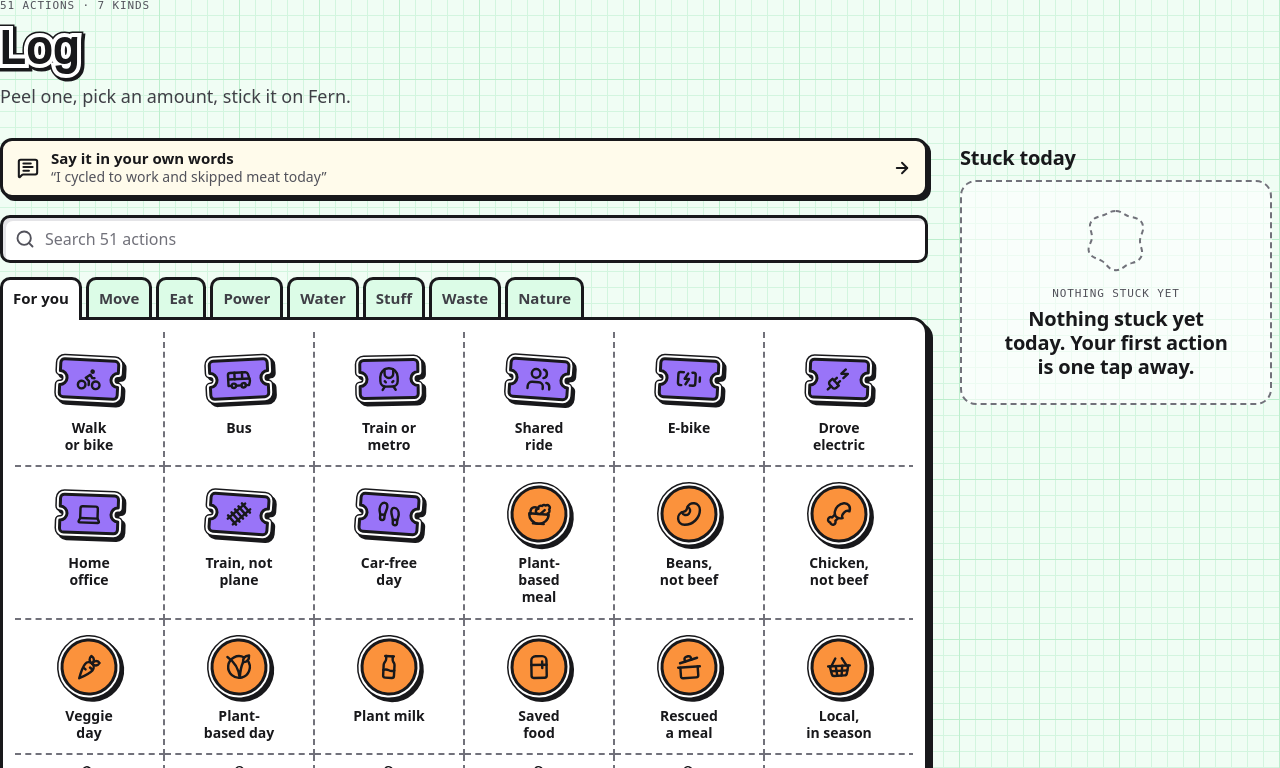
Test: browsing › finds an action by a synonym and offers a custom action when nothing matches
In the search field named "Search actions": coordinates (480, 239) [35, 218, 925, 260], type "subway"
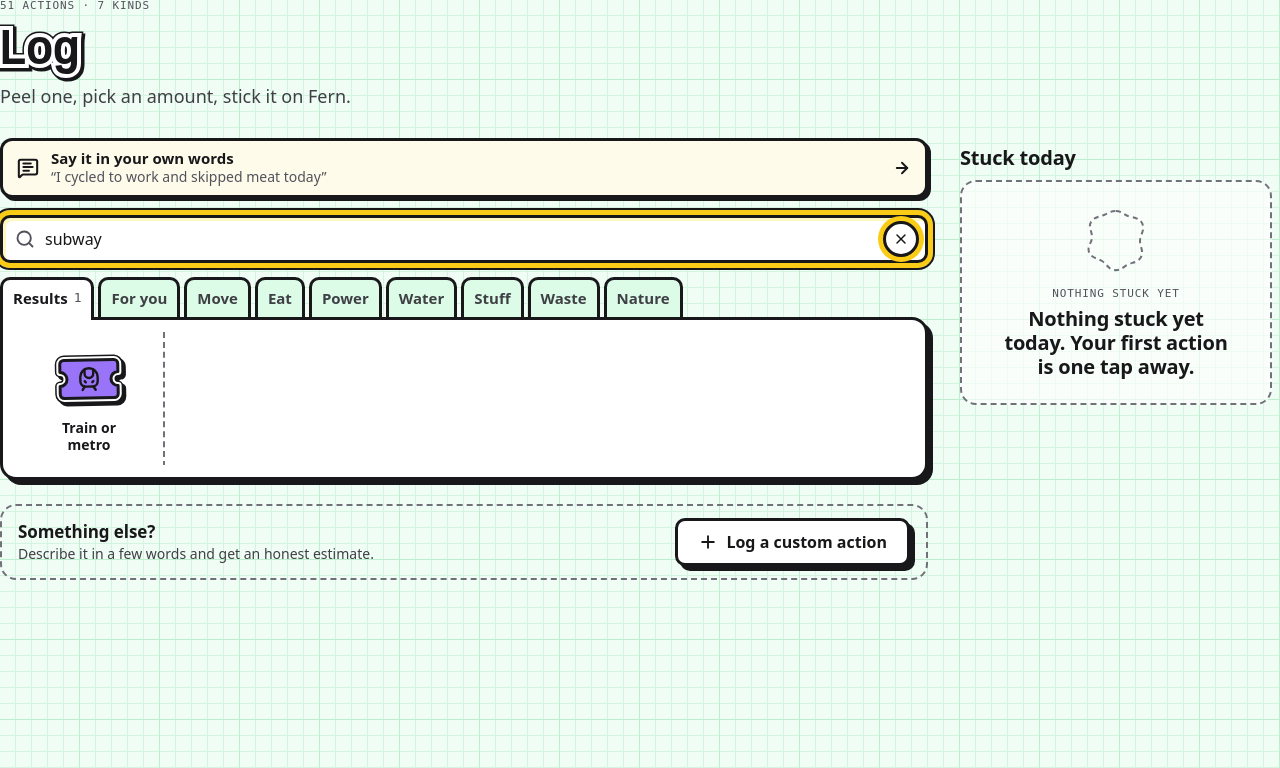
Expected: the button with aria-label "Train or metro:" is shown, [52, 346, 126, 454]
Clear the search field named "Search actions": coordinates (459, 239) [35, 218, 883, 260]
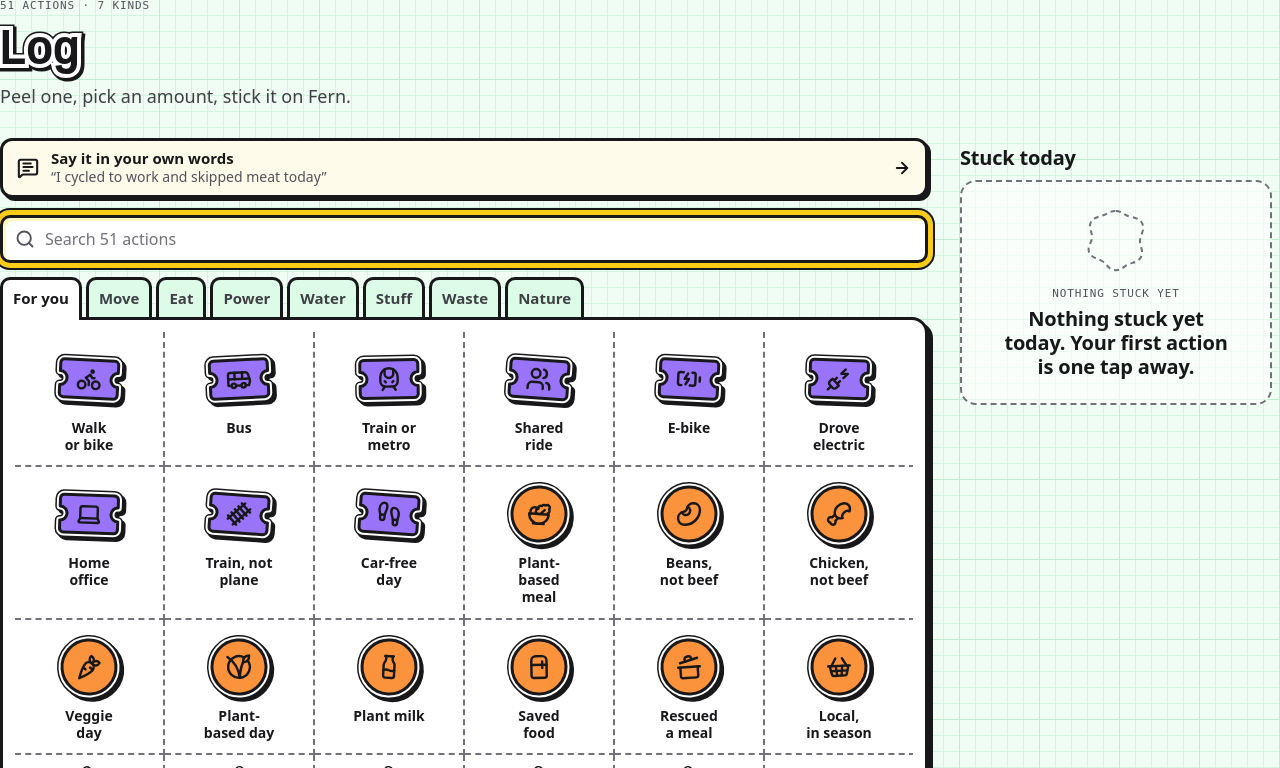
In the search field named "Search actions": coordinates (480, 239) [35, 218, 925, 260], type "unicycle hockey"
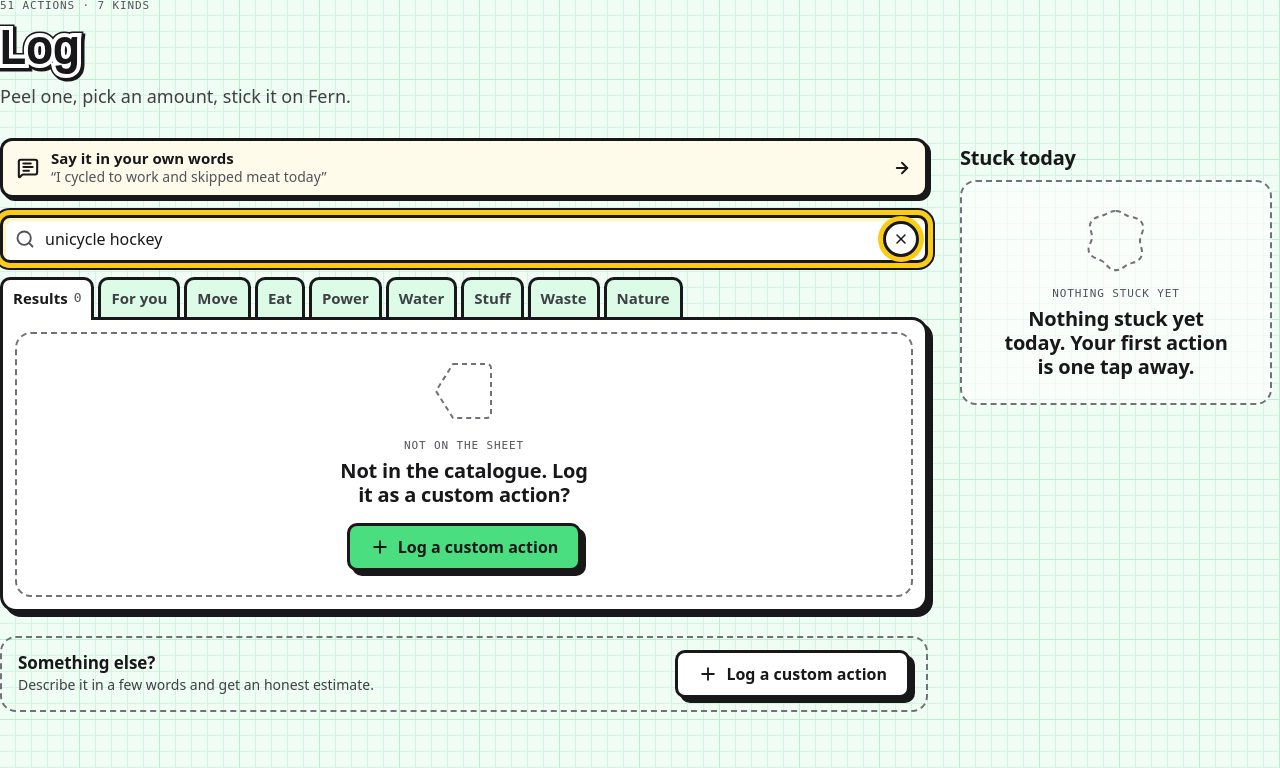
Expected: the heading "Not in the catalogue. Log it as a custom action?" is shown, [340, 457, 588, 508]
Click the button "Log a custom action" below "Not on the sheet": coordinates (464, 547) [347, 523, 581, 571]
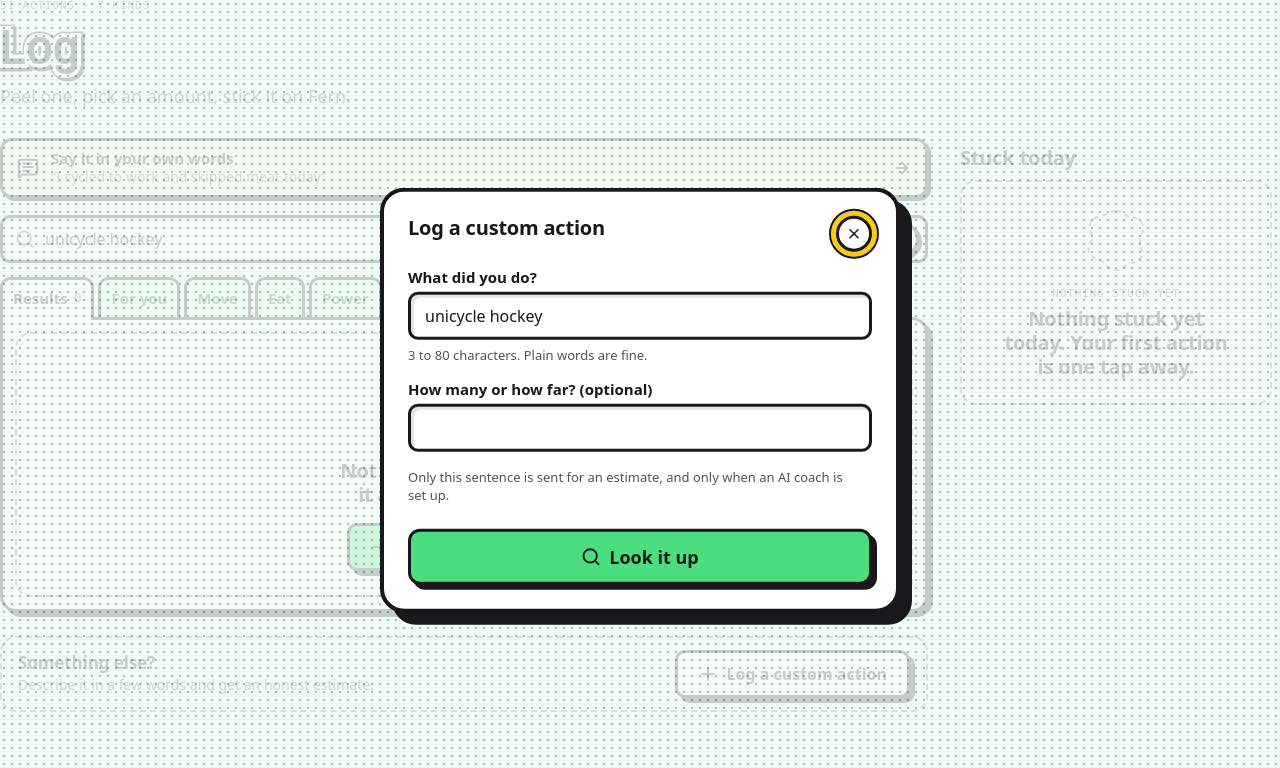
Expected: the field labelled "What did you do?" holds "unicycle hockey", [411, 295, 869, 337]
